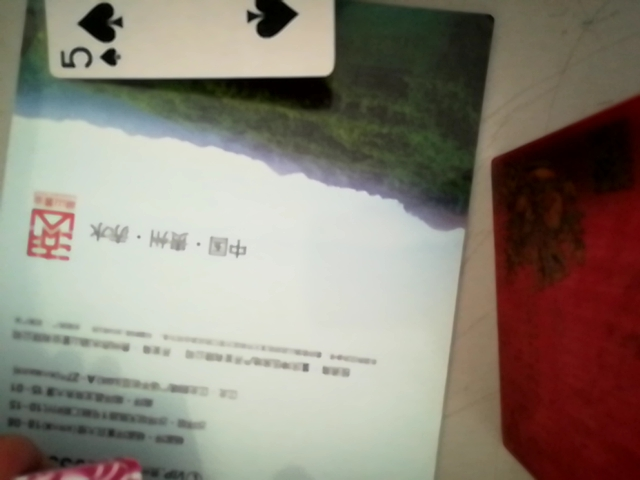ht 5: (20, 2, 346, 85)
